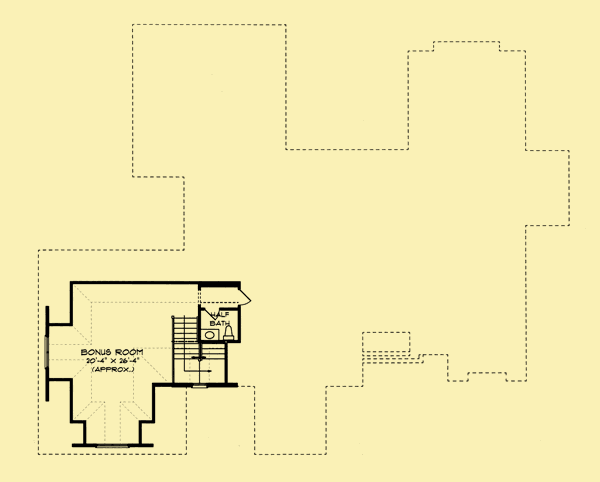large_sink: (222, 324, 237, 341)
small_sink: (200, 327, 220, 341)
stairs: (169, 316, 200, 384), (197, 342, 227, 385)
